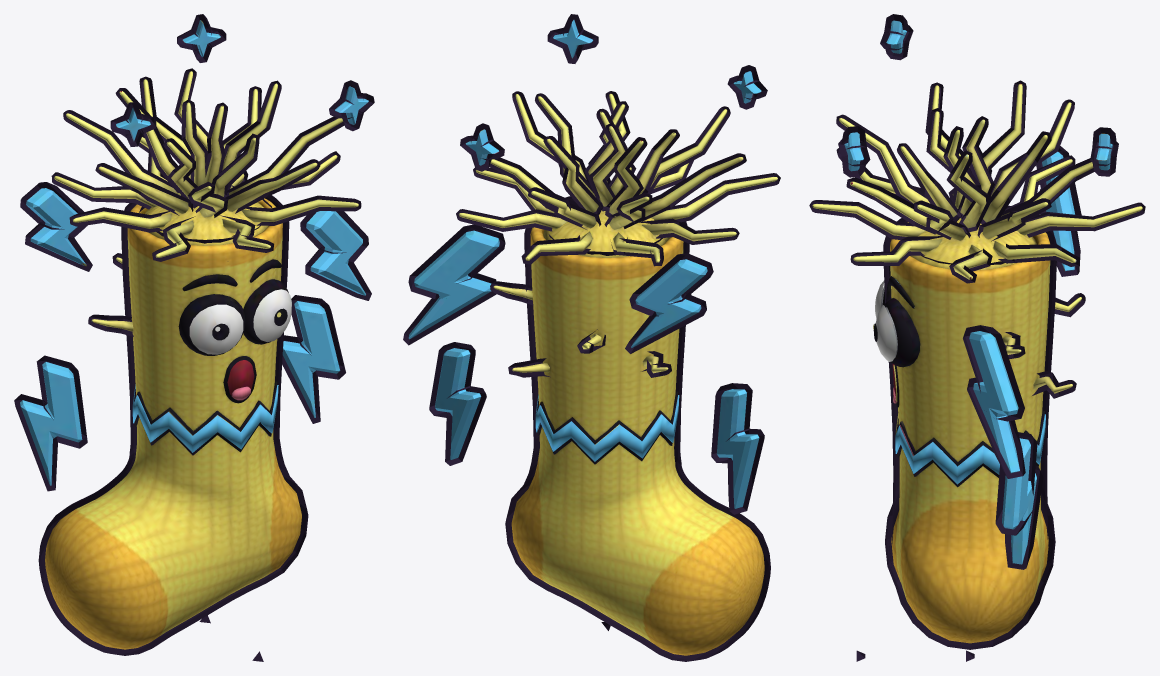
File: Shockini_L.glb
3 renders of one model, left to right at view 1: azimuth 30°, elevation 25°; view 2: azimuth 150°, elevation 25°; view 3: azimuth 270°, elevation 25°, orthographic. The views are drawn at different scales.
Visible parts, largest first — view 1: Shockini_L, Shockini_L_Outline; view 2: Shockini_L, Shockini_L_Outline; view 3: Shockini_L, Shockini_L_Outline.
Part boxes in pixels (x1,y1,x2,y2): Shockini_L: [20, 20, 368, 649]; Shockini_L_Outline: [14, 14, 374, 655]; Shockini_L: [408, 20, 777, 655]; Shockini_L_Outline: [403, 14, 780, 661]; Shockini_L: [812, 20, 1142, 643]; Shockini_L_Outline: [809, 14, 1145, 649].
Bounding box in the file's own units: 3.94 × 5.97 × 3.08.
2 materials, 2 textured.
